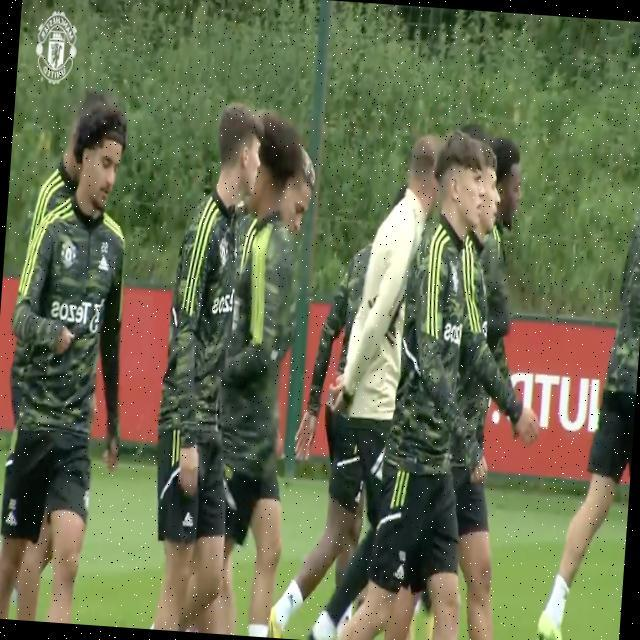Adidas: (97, 254, 111, 276), (182, 509, 195, 529), (393, 562, 404, 582), (5, 510, 17, 528), (284, 589, 295, 608)
